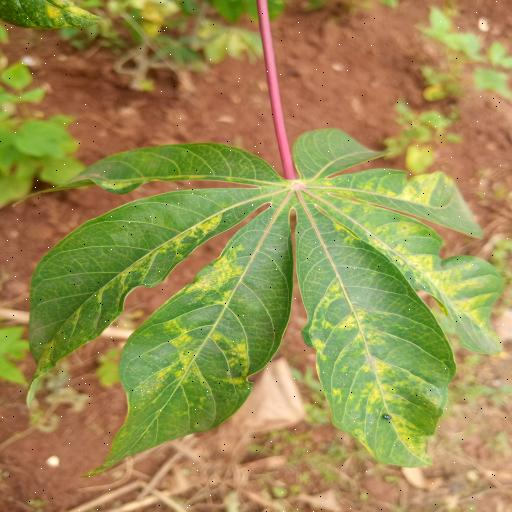Cassava_Mosaic: (23, 129, 512, 474)
